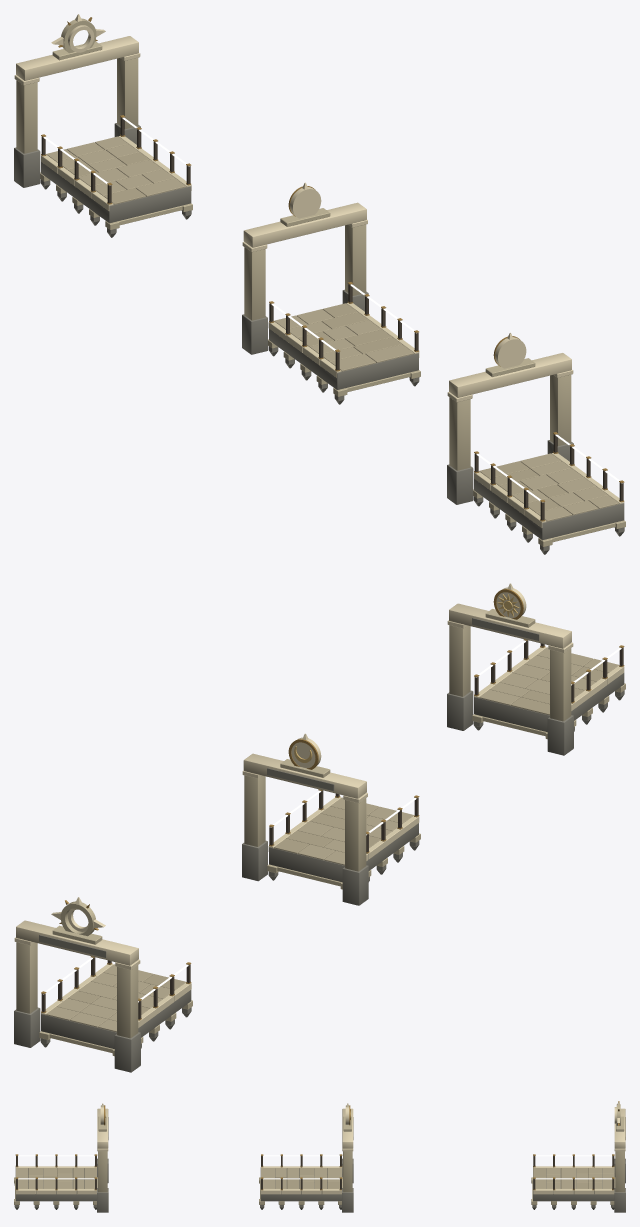
Rendered from shadow-bridges-v01.glb.
3 renders of one model, top to bottom at view 1: azimuth 30°, elevation 25°; view 2: azimuth 150°, elevation 25°; view 3: azimuth 270°, elevation 25°, orthographic. The views are drawn at different scales.
Parts seen in each view (by area): view 1: Shadow sandstone 7, Shadow sandstone light 3, Shadow sandstone shade 0, Shadow floor warm 1, Shadow floor warm alt 2, Shadow bronze dark 5, Shadow rail glow 4, Shadow brass 6; view 2: Shadow sandstone shade 0, Shadow sandstone 7, Shadow sandstone light 3, Shadow floor warm 1, Shadow floor warm alt 2, Shadow bronze dark 5, Shadow brass 6, Shadow rail glow 4; view 3: Shadow sandstone shade 0, Shadow floor warm 1, Shadow sandstone light 3, Shadow sandstone 7, Shadow floor warm alt 2, Shadow rail glow 4, Shadow bronze dark 5, Shadow brass 6.
Boxes of the visible parts, x1,y1,x2,y2 form: Shadow sandstone 7: [16, 18, 625, 546]; Shadow sandstone light 3: [14, 14, 624, 527]; Shadow sandstone shade 0: [14, 123, 624, 554]; Shadow floor warm 1: [46, 136, 618, 521]; Shadow floor warm alt 2: [68, 152, 567, 512]; Shadow bronze dark 5: [41, 117, 623, 520]; Shadow rail glow 4: [43, 117, 622, 502]; Shadow brass 6: [41, 17, 624, 521]; Shadow sandstone shade 0: [14, 618, 624, 1072]; Shadow sandstone 7: [16, 609, 625, 1056]; Shadow sandstone light 3: [14, 583, 624, 1027]; Shadow floor warm 1: [46, 647, 618, 1032]; Shadow floor warm alt 2: [68, 667, 607, 1014]; Shadow bronze dark 5: [41, 640, 623, 1019]; Shadow brass 6: [41, 589, 624, 1020]; Shadow rail glow 4: [43, 640, 621, 1002]; Shadow sandstone shade 0: [14, 1117, 625, 1212]; Shadow floor warm 1: [15, 1168, 614, 1188]; Shadow sandstone light 3: [15, 1101, 625, 1194]; Shadow sandstone 7: [14, 1104, 624, 1204]; Shadow floor warm alt 2: [28, 1168, 588, 1188]; Shadow rail glow 4: [18, 1155, 611, 1179]; Shadow bronze dark 5: [16, 1156, 614, 1189]; Shadow brass 6: [15, 1101, 619, 1190].
Bounding box in the file's own units: 5.96 × 7.86 × 44.95.
